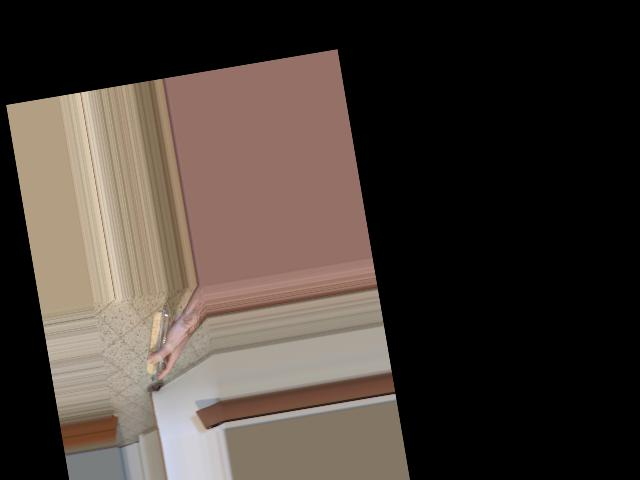cheese: (130, 313, 196, 386)
